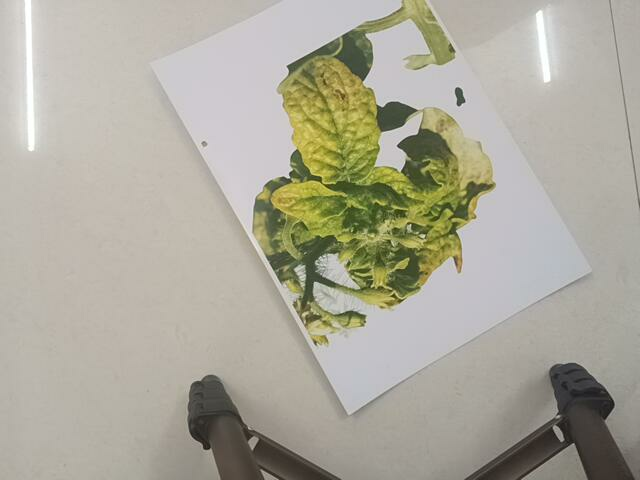Tomamto_Leaf_curl_virus: (270, 17, 481, 319)
